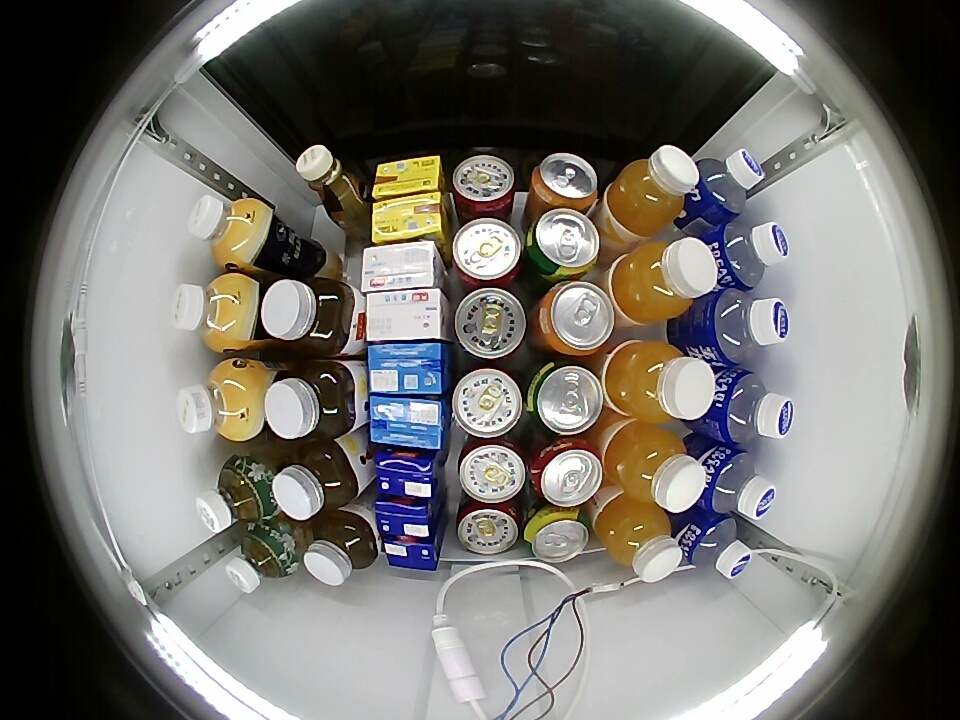asamu: (177, 360, 256, 441), (167, 273, 247, 351), (189, 195, 262, 267)
baokuangli: (703, 289, 790, 366), (710, 368, 795, 446), (688, 148, 765, 223), (701, 446, 776, 520), (677, 508, 754, 578), (711, 222, 789, 291)
bingqilinniunai: (375, 448, 442, 499), (375, 494, 439, 538), (384, 532, 441, 571)
chapai: (260, 277, 357, 357), (265, 360, 357, 440), (272, 440, 359, 521), (303, 509, 378, 586)
fenda: (536, 280, 616, 357), (530, 152, 599, 211)
kafei: (296, 144, 374, 227)
kele: (530, 436, 604, 507)
moliqingcha: (196, 455, 273, 534), (224, 521, 297, 593)
niunai: (363, 288, 450, 345), (359, 241, 445, 294)
wangzainiunai: (451, 366, 525, 440), (450, 216, 524, 290), (453, 287, 527, 360), (457, 436, 528, 505), (451, 153, 517, 220), (456, 496, 522, 557)
weic: (604, 420, 708, 514), (612, 237, 719, 325), (604, 340, 718, 422), (606, 144, 700, 238), (595, 494, 684, 582)
weitanai: (367, 342, 450, 396), (369, 395, 449, 450)
weitaningmeng: (372, 192, 447, 245), (373, 155, 445, 201)
xuebi2: (525, 360, 604, 436), (525, 208, 601, 280), (523, 505, 590, 563)
